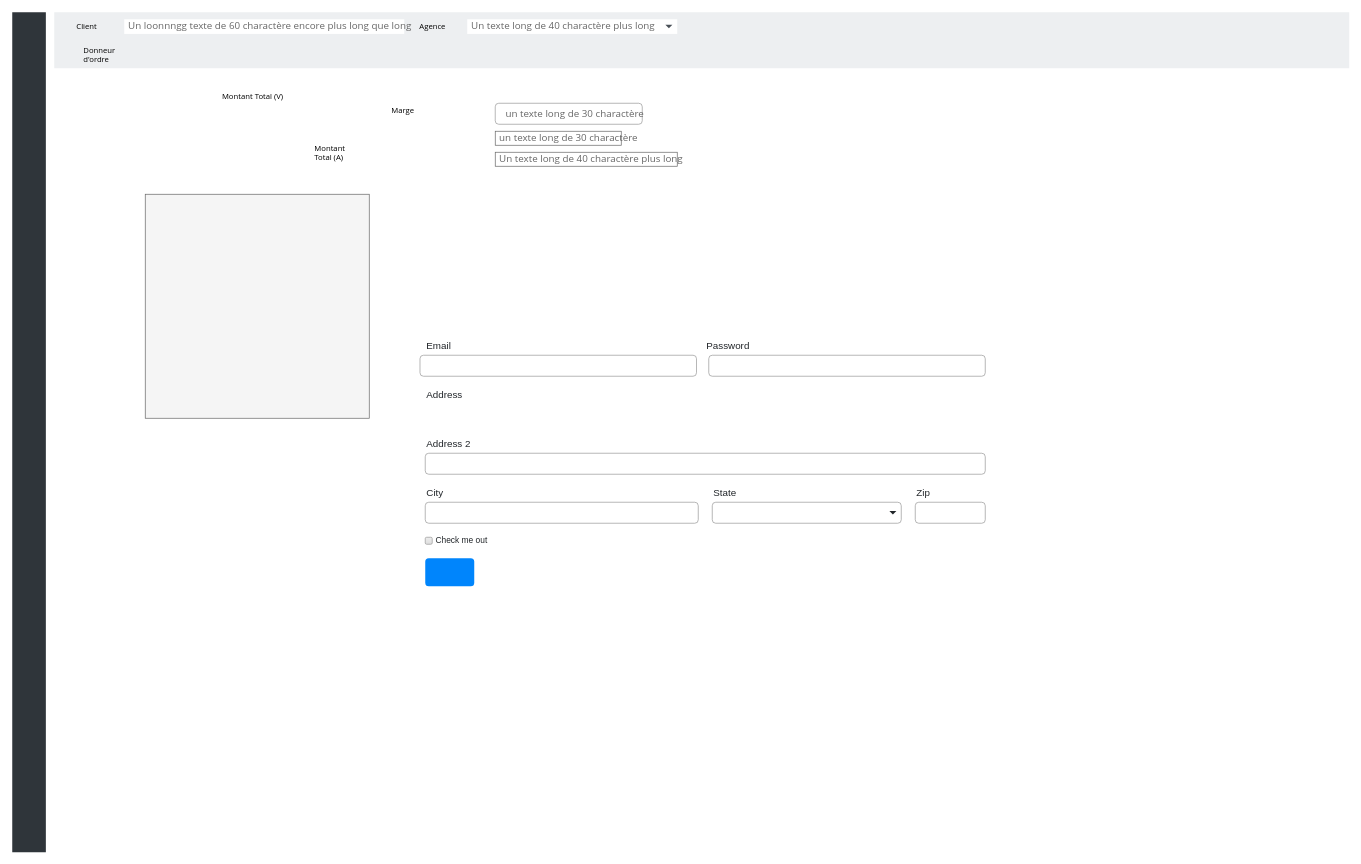
Image size: 1361x864. Some labels were removed from this diagram. Here are the shapes that lost their labels. From the top down, the centre of each, then its label:
point (705, 463): Apartment, studio or floor
point (806, 512): Choose...
point (449, 572): Sign in
